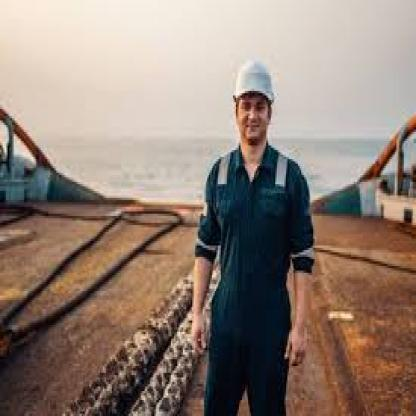helmet: (226, 57, 278, 106)
vest: (202, 143, 320, 414)
